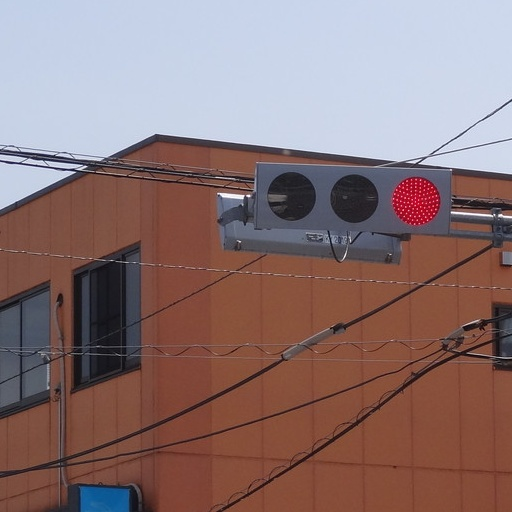Traffic_Signal_Red: (244, 157, 462, 246)
